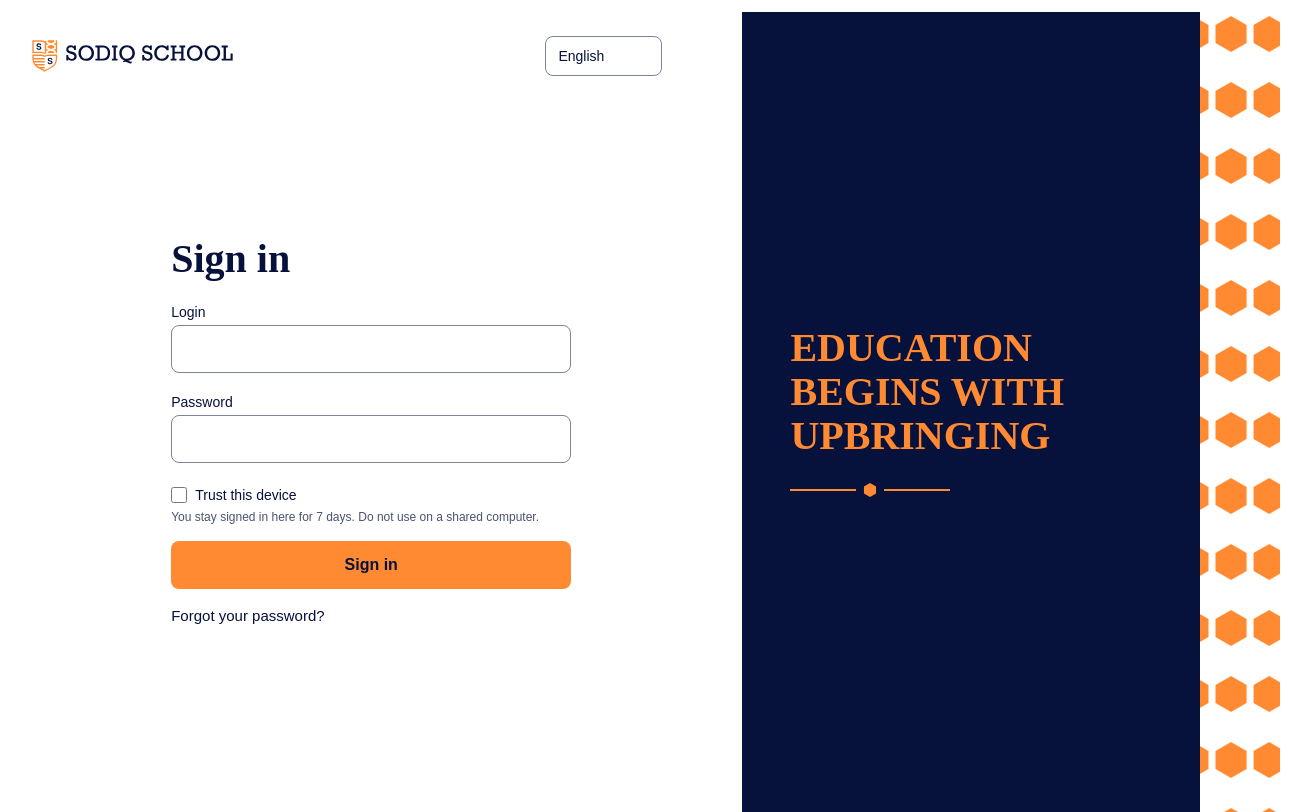
the sign-in page › goes on to the set-up when the second step is required
The width and height of the screenshot is (1292, 812).
In the field labelled "Login": (371, 349) [171, 325, 571, 373], type "a.karimov"
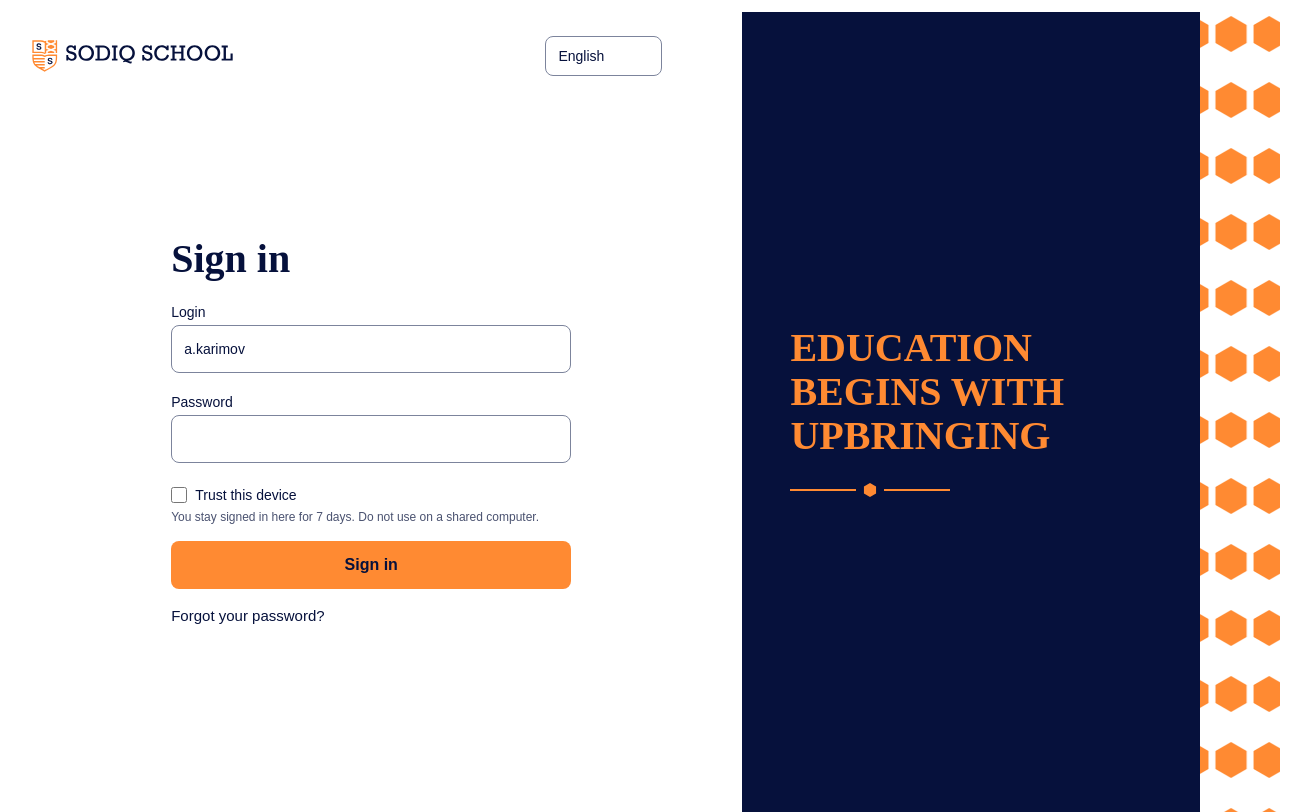
In the password field labelled "Password": (371, 439) [171, 415, 571, 463], type "the-password-1"
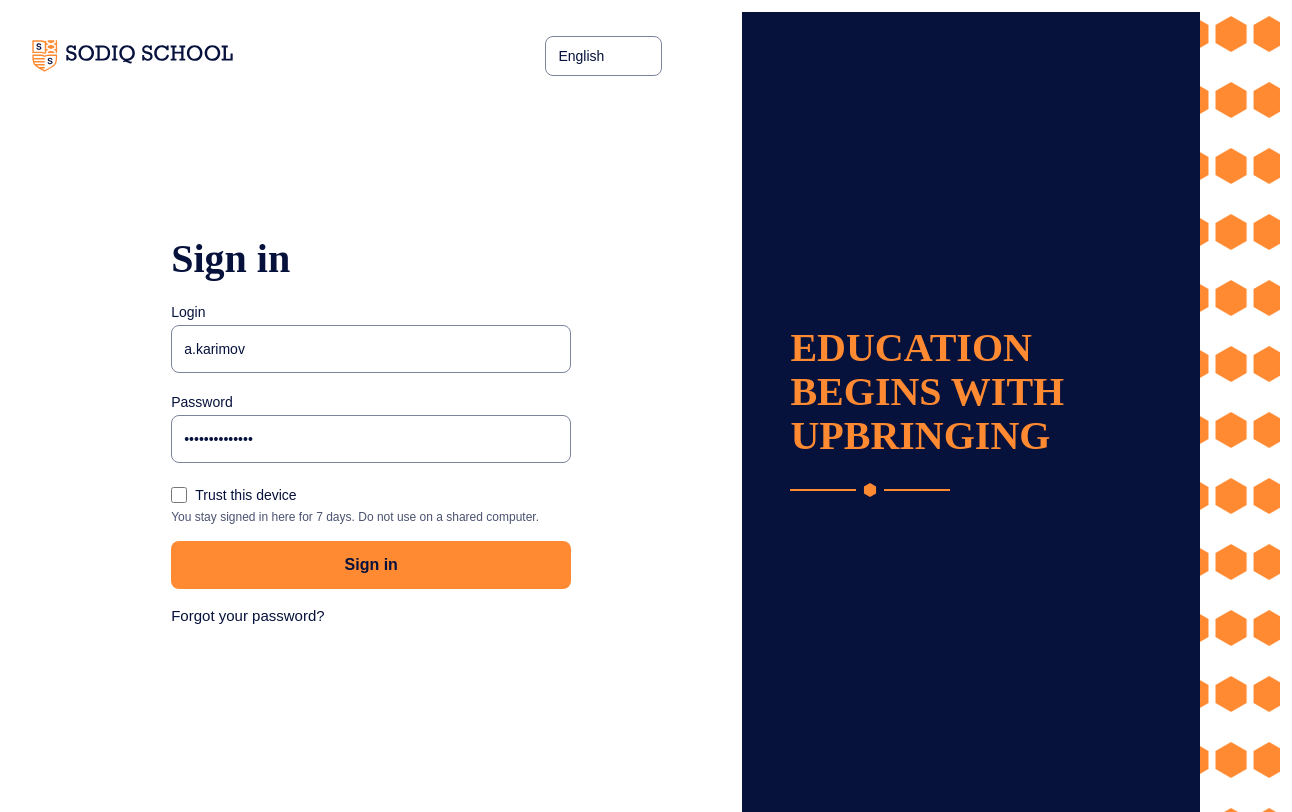
Click the button "Sign in": (371, 565) [171, 541, 571, 589]
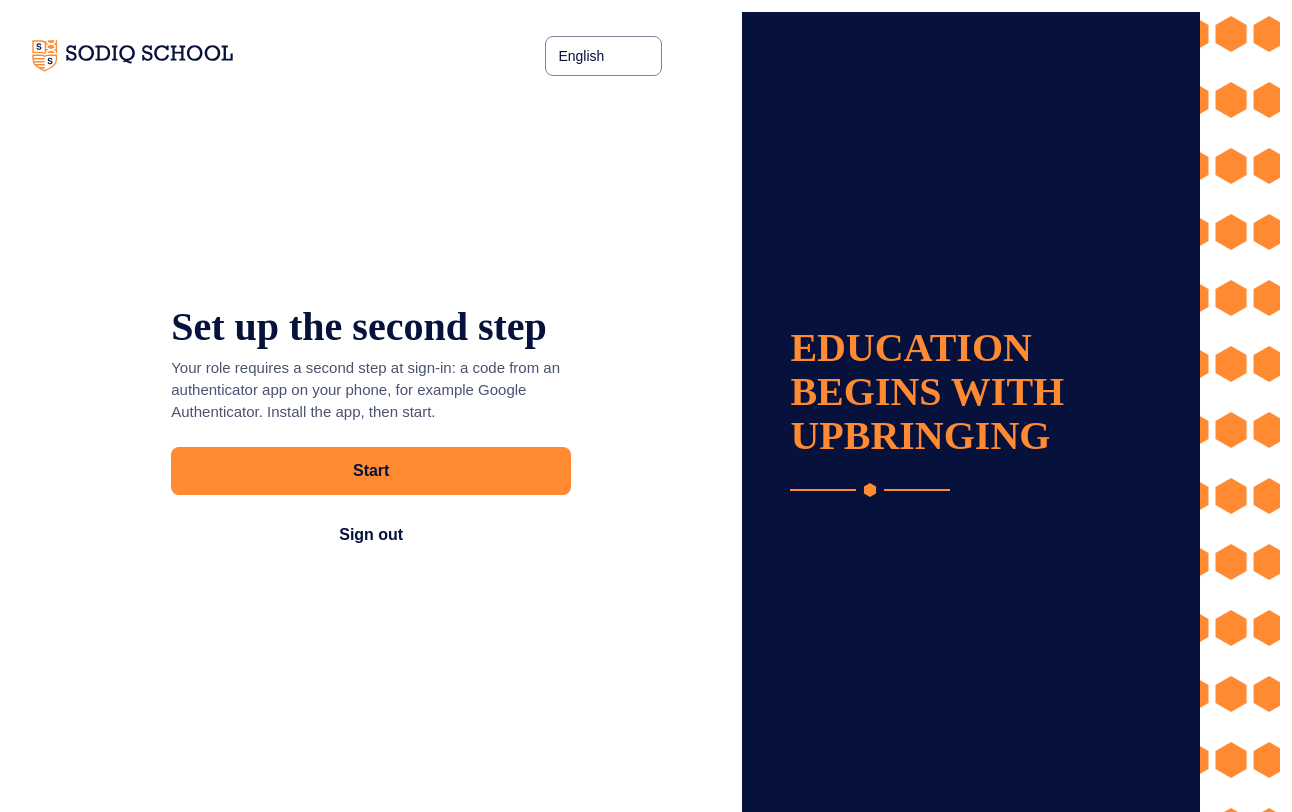
Expected: the heading "Set up the second step" is shown, [171, 305, 571, 349]
